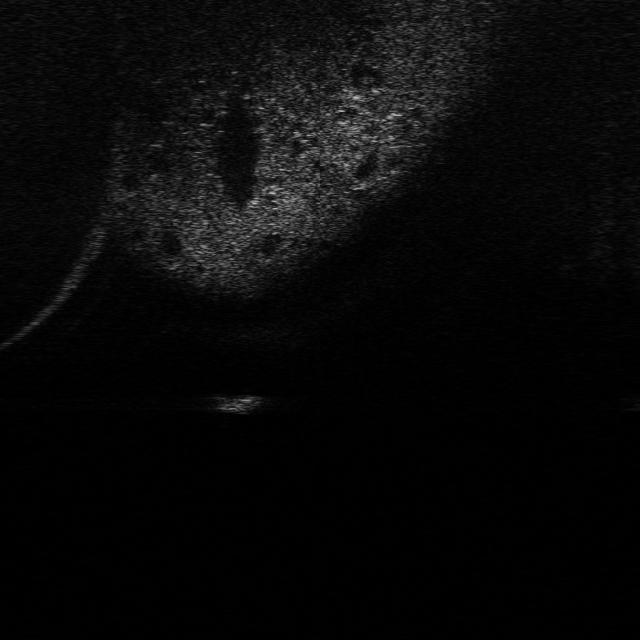cube: (210, 390, 268, 414)
